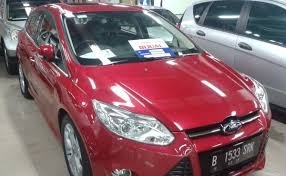plate: (212, 142, 255, 166)
